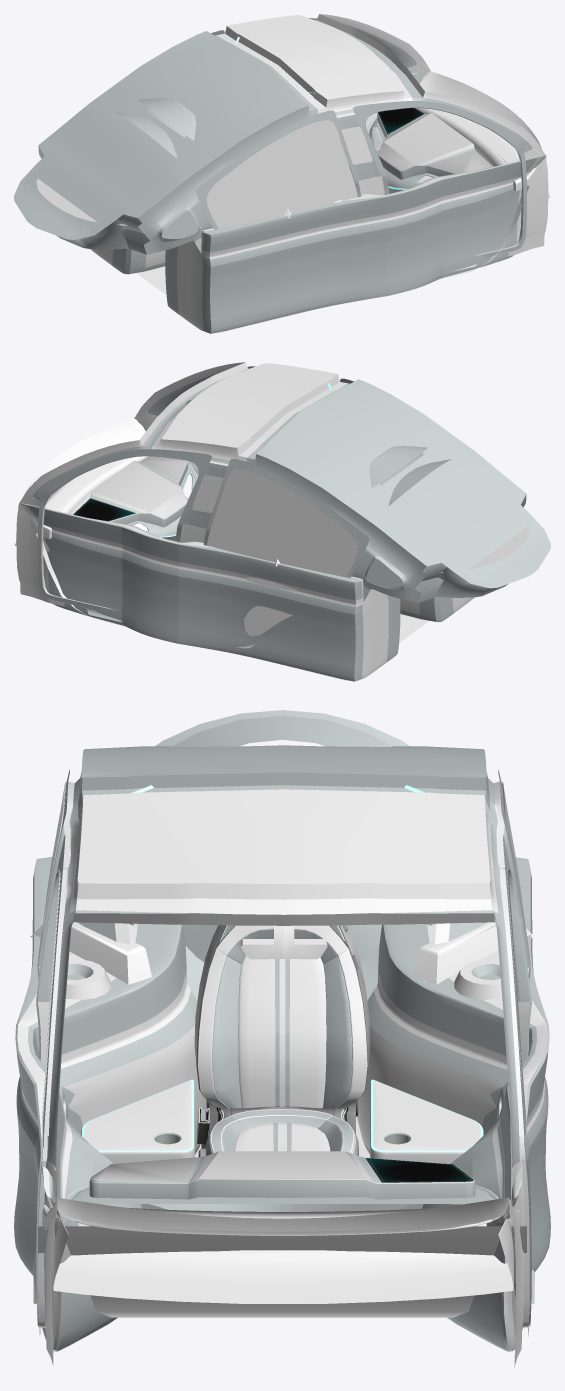
Rendered from Bynocs Car 01(New).fbx.
The picture shows the model from 3 angles, top to bottom: view 1: azimuth 30°, elevation 25°; view 2: azimuth 150°, elevation 25°; view 3: azimuth 270°, elevation 25°; orthographic projection. The views are drawn at different scales.
Visible parts, largest first — view 1: Frame_Low, Cube.001, Cube.002, Dashboard_Upper_Low, Sphere, Plane, Cube, Leather_white_Low; view 2: Frame_Low, Cube.001, Cube.002, Dashboard_Upper_Low, Sphere, Plane, Cube, Leather_white_Low; view 3: Frame_Low, Cube.001, Dashboard_Upper_Low, Plane, Cube.002, Lether_Y_1, Cube.003, Lether_Y_4, Sphere, Cube.004, Cube, Cylinder.001 (+5 smaller).
Boxes of the visible parts, bbox=[...] form: Frame_Low: bbox=[14, 14, 548, 272]; Cube.001: bbox=[90, 72, 546, 333]; Cube.002: bbox=[377, 108, 492, 179]; Dashboard_Upper_Low: bbox=[415, 71, 550, 197]; Sphere: bbox=[113, 98, 196, 158]; Plane: bbox=[136, 185, 529, 333]; Cube: bbox=[367, 114, 438, 193]; Leather_white_Low: bbox=[36, 178, 203, 231]; Frame_Low: bbox=[16, 362, 550, 648]; Cube.001: bbox=[19, 424, 474, 681]; Cube.002: bbox=[73, 456, 188, 527]; Dashboard_Upper_Low: bbox=[14, 419, 148, 551]; Sphere: bbox=[369, 445, 452, 505]; Plane: bbox=[36, 533, 429, 680]; Cube: bbox=[127, 462, 197, 540]; Leather_white_Low: bbox=[439, 525, 529, 573]; Frame_Low: bbox=[33, 745, 534, 1367]; Cube.001: bbox=[14, 857, 550, 1351]; Dashboard_Upper_Low: bbox=[42, 1197, 522, 1303]; Plane: bbox=[38, 1116, 526, 1317]; Cube.002: bbox=[89, 1151, 475, 1199]; Lether_Y_1: bbox=[197, 925, 367, 1108]; Cube.003: bbox=[81, 1079, 483, 1209]; Lether_Y_4: bbox=[238, 955, 326, 1108]; Sphere: bbox=[77, 710, 487, 1000]; Cube.004: bbox=[30, 922, 534, 984]; Cube: bbox=[66, 1185, 498, 1211]; Cylinder.001: bbox=[66, 959, 502, 999].
Size of the model in its own units: 881 by 355 by 434.
